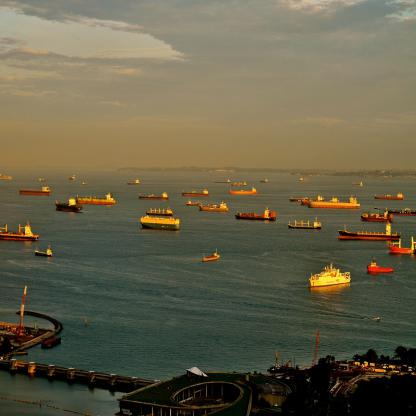Bulk Carrier: (338, 222, 399, 240), (366, 257, 393, 275), (288, 217, 322, 229), (199, 202, 228, 212), (139, 191, 168, 201), (19, 187, 51, 196), (202, 248, 220, 263), (34, 246, 53, 258), (230, 187, 258, 194), (182, 189, 209, 196), (374, 194, 397, 200), (186, 198, 202, 206), (127, 179, 140, 185)
